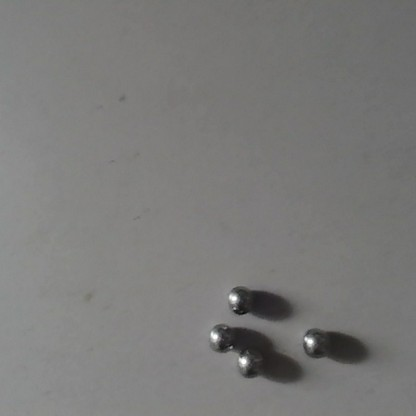ironball: (299, 323, 332, 363), (203, 318, 236, 352), (235, 347, 267, 378), (224, 284, 256, 314)
